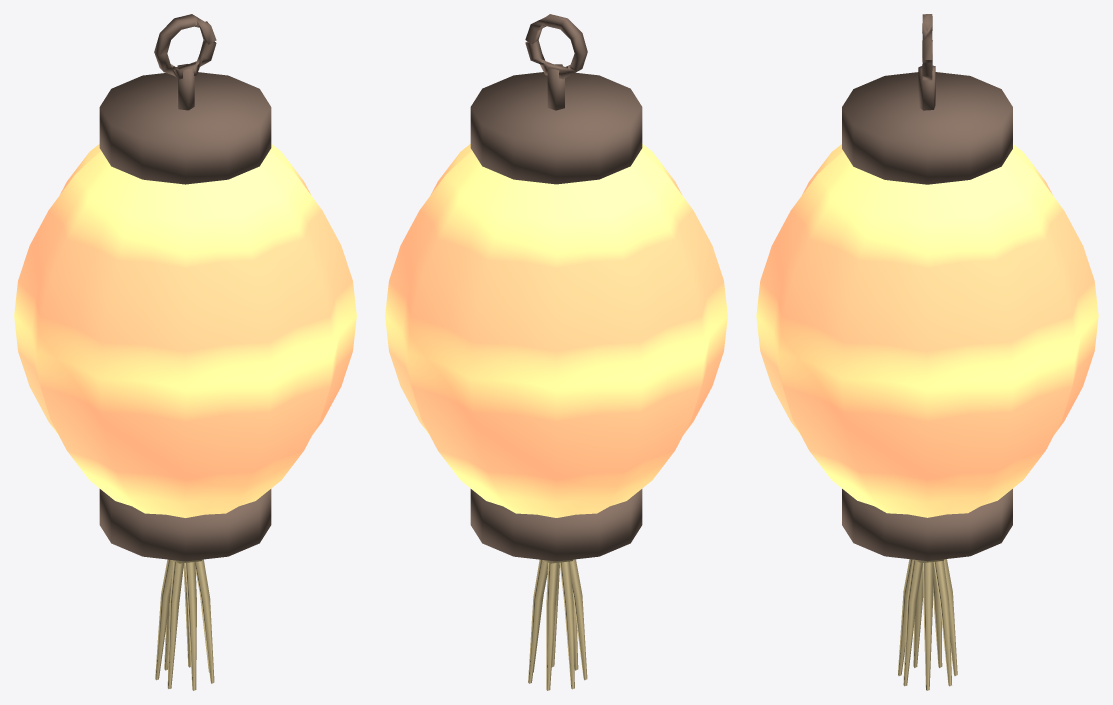
The model's file is festival-lantern.glb.
3 views of the same model, side by side, from view 1: azimuth 30°, elevation 25°; view 2: azimuth 150°, elevation 25°; view 3: azimuth 270°, elevation 25° (orthographic).
Parts seen in each view (by area): view 1: Paper, Frame, Tassel; view 2: Paper, Frame, Tassel; view 3: Paper, Frame, Tassel.
Boxes of the visible parts, <box> form: Paper: <box>14,144,356,517</box>; Frame: <box>99,14,271,561</box>; Tassel: <box>155,559,214,690</box>; Paper: <box>385,144,727,517</box>; Frame: <box>470,14,642,561</box>; Tassel: <box>528,559,587,690</box>; Paper: <box>756,144,1098,517</box>; Frame: <box>842,14,1012,561</box>; Tassel: <box>898,559,957,690</box>.
Size of the model in its own units: 0.3 by 0.6381 by 0.3.
